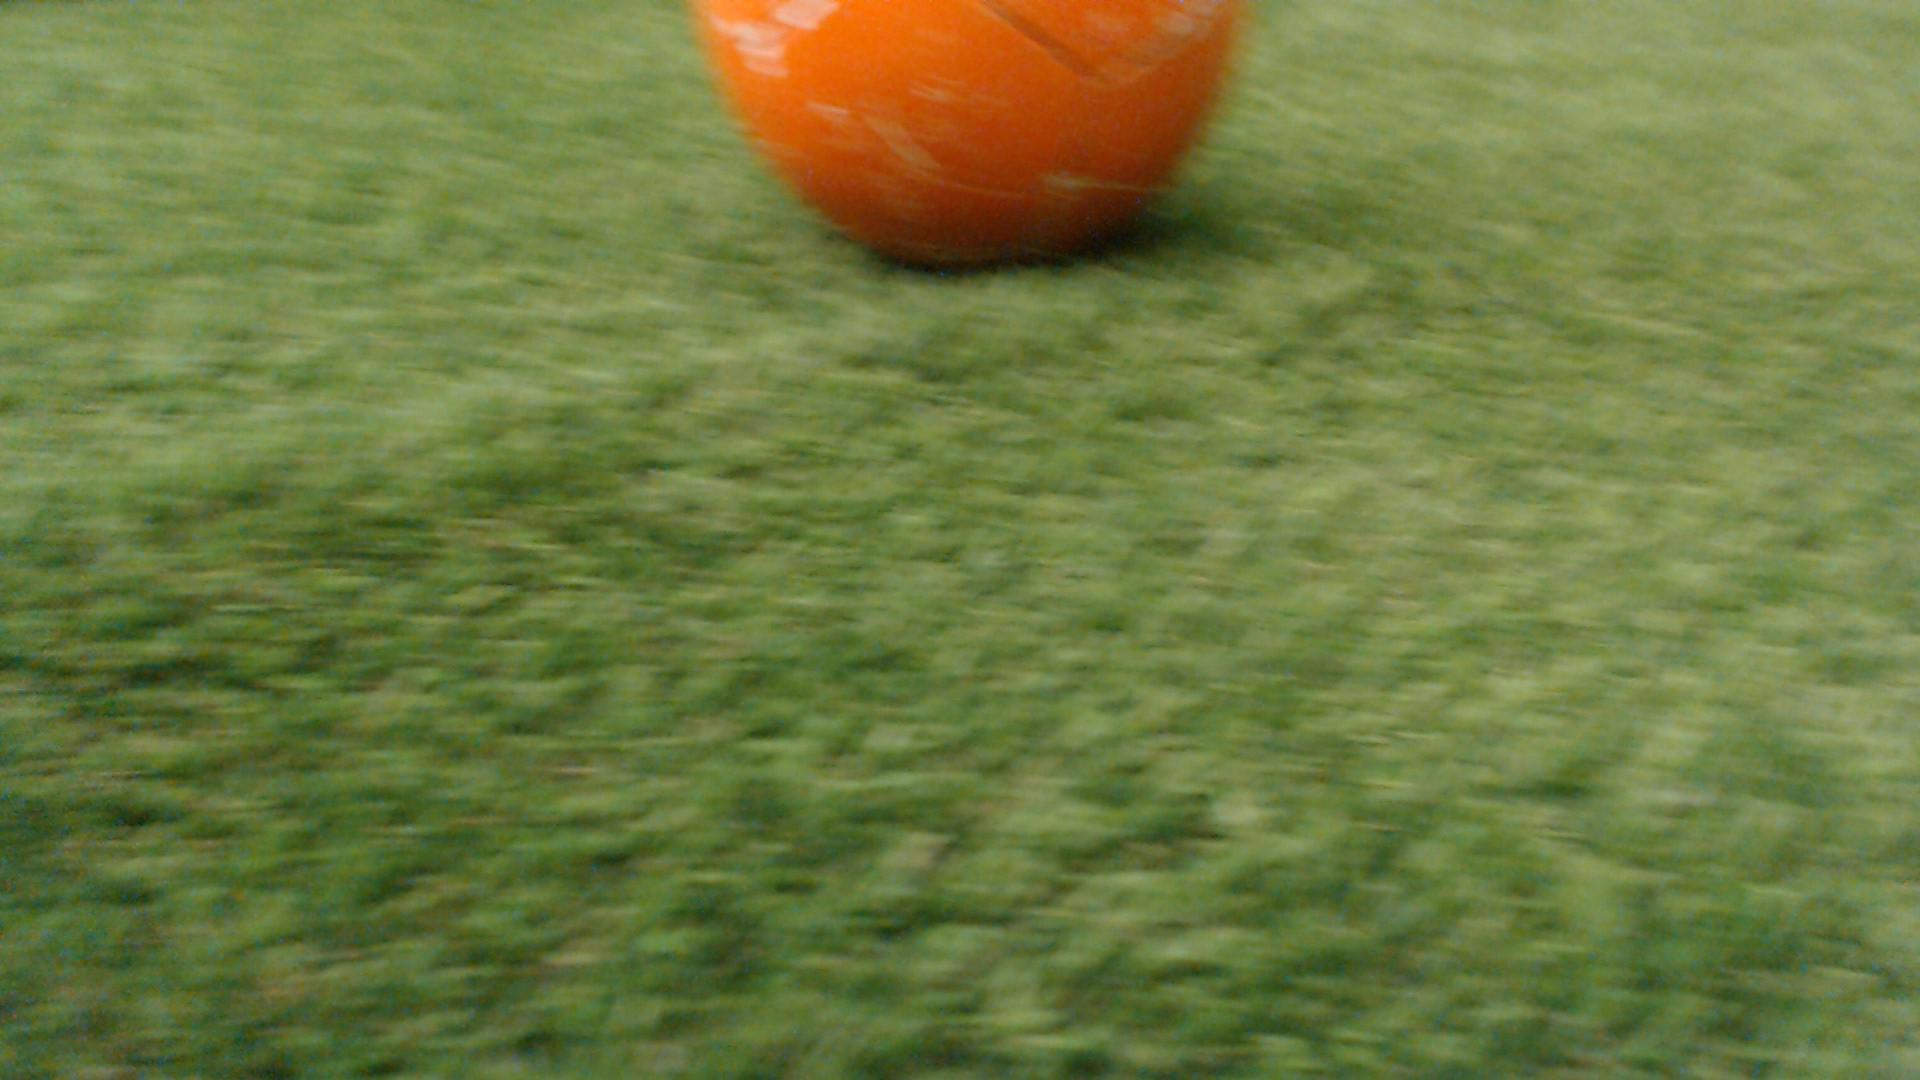bola: (669, 3, 1284, 289)
